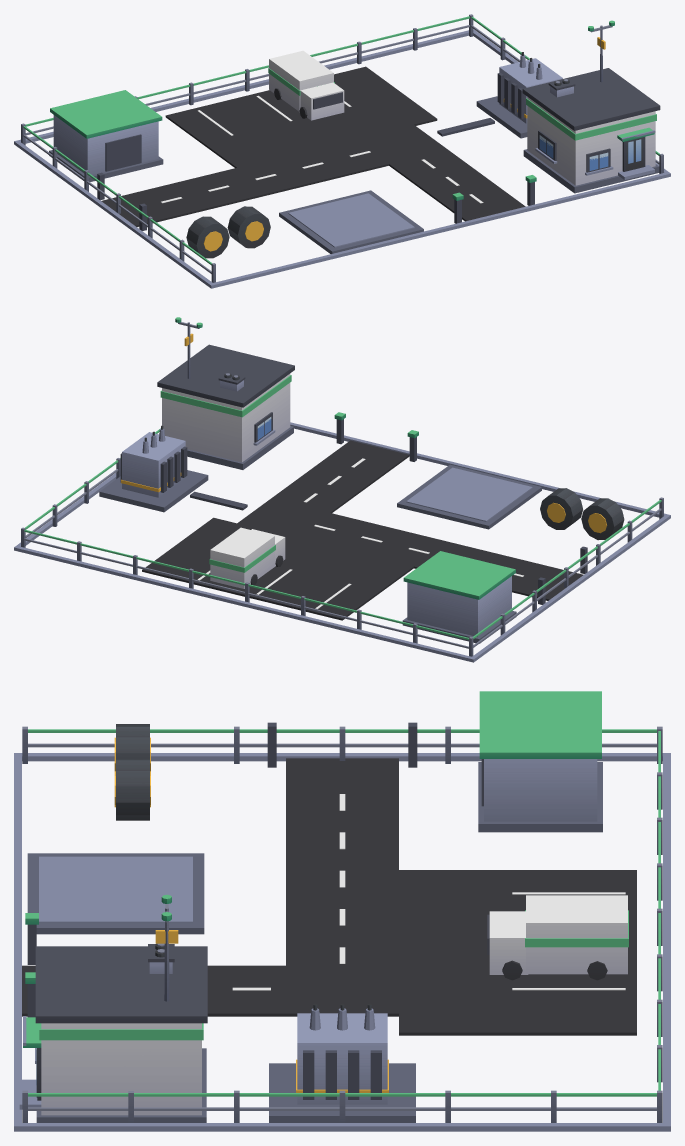
File: wind_station.glb
3 renders of one model, top to bottom at view 1: azimuth 30°, elevation 25°; view 2: azimuth 150°, elevation 25°; view 3: azimuth 270°, elevation 25°, orthographic. The views are drawn at different scales.
Visible parts, largest first — view 1: wind_station; view 2: wind_station; view 3: wind_station.
Part boxes in pixels (x1,y1,x2,y2): wind_station: (14,14,670,288); wind_station: (14,317,670,662); wind_station: (14,691,670,1131).
Bounding box in the file's own units: 7.8 × 2.02 × 5.8.
1 material, 1 textured.
